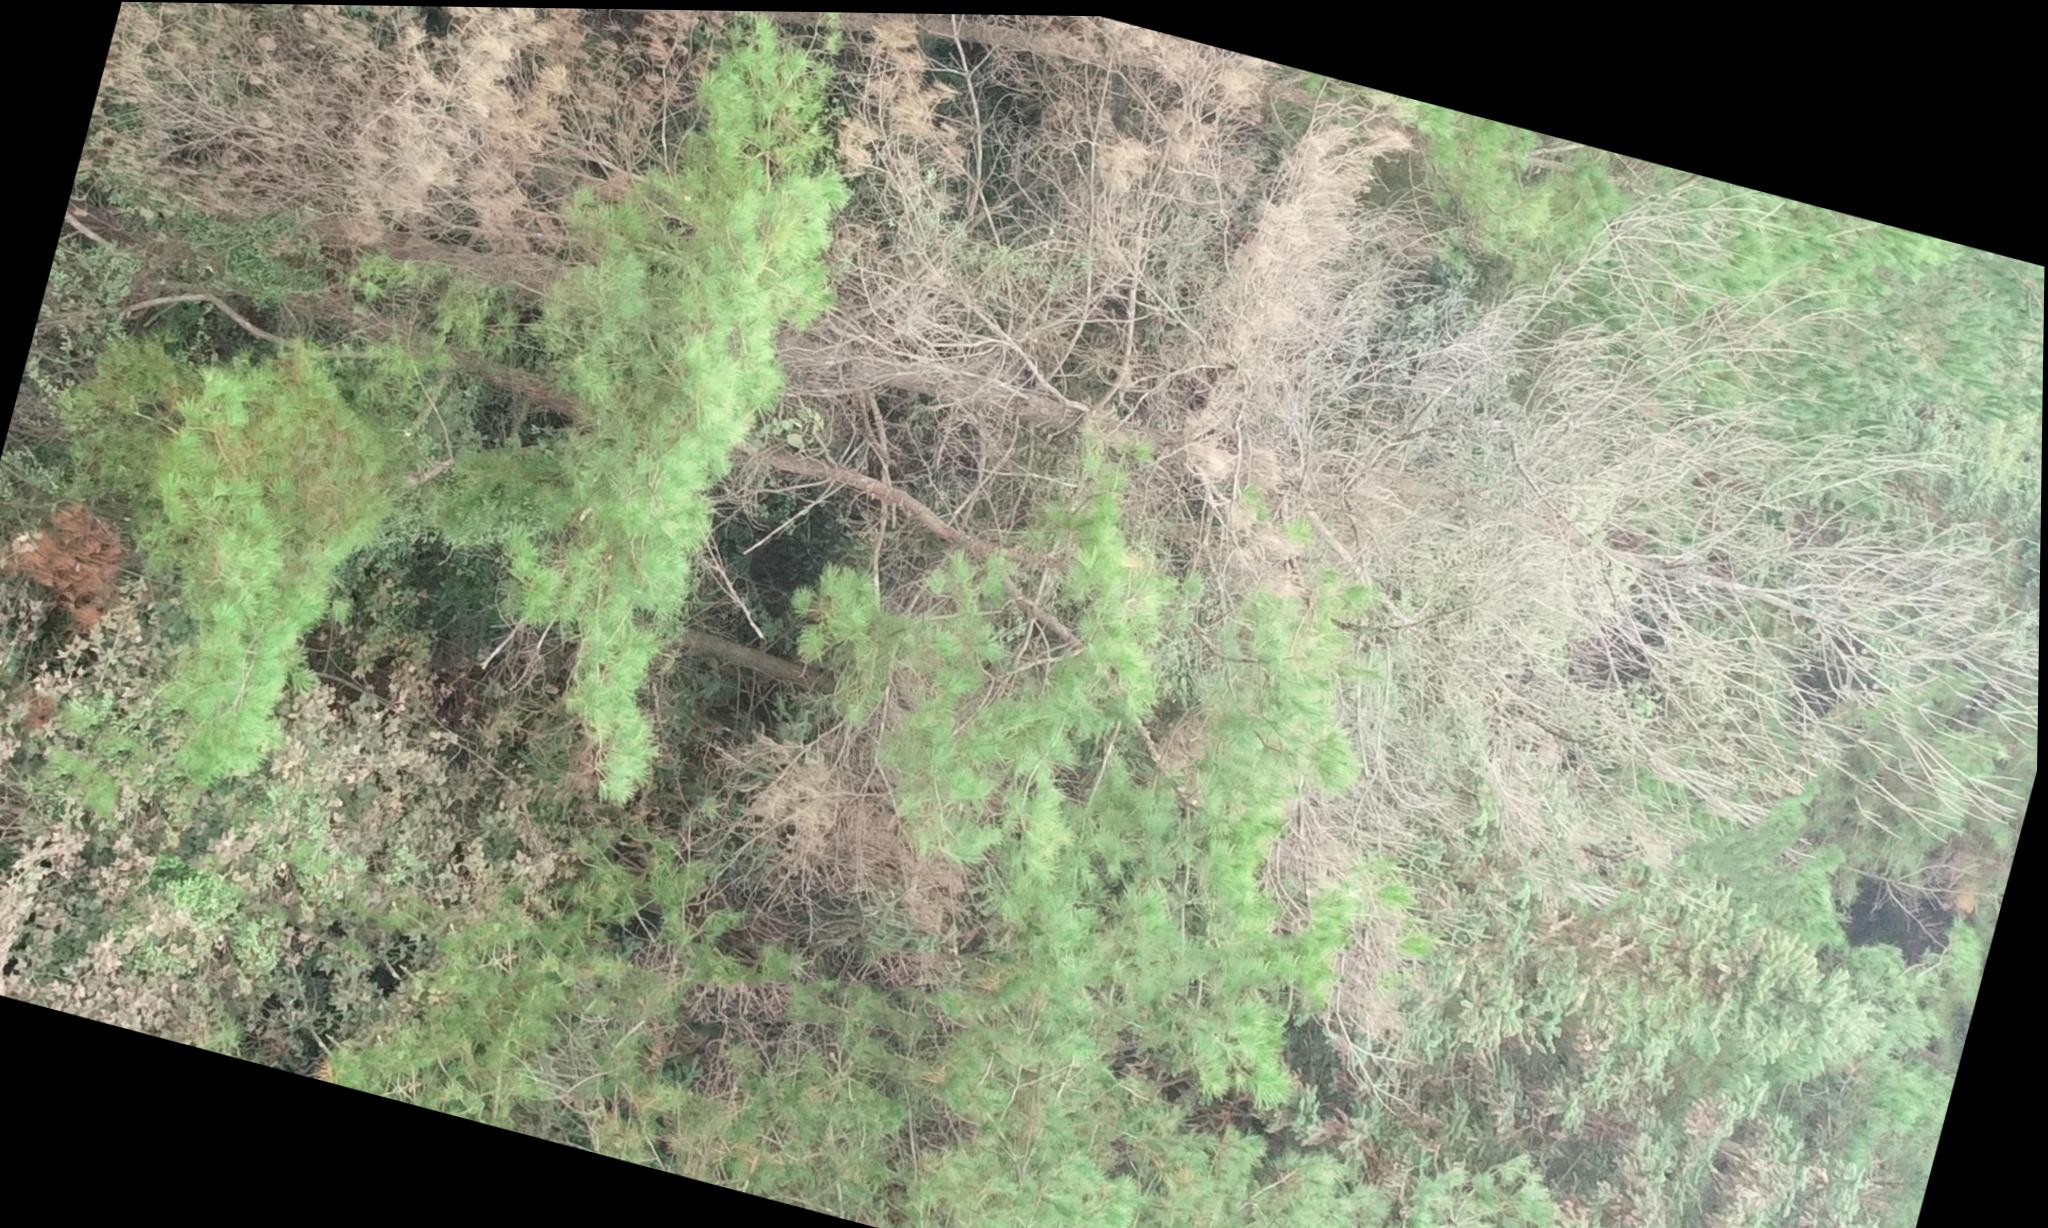dead: (727, 22, 2048, 890)
heavy: (85, 1, 630, 287)
